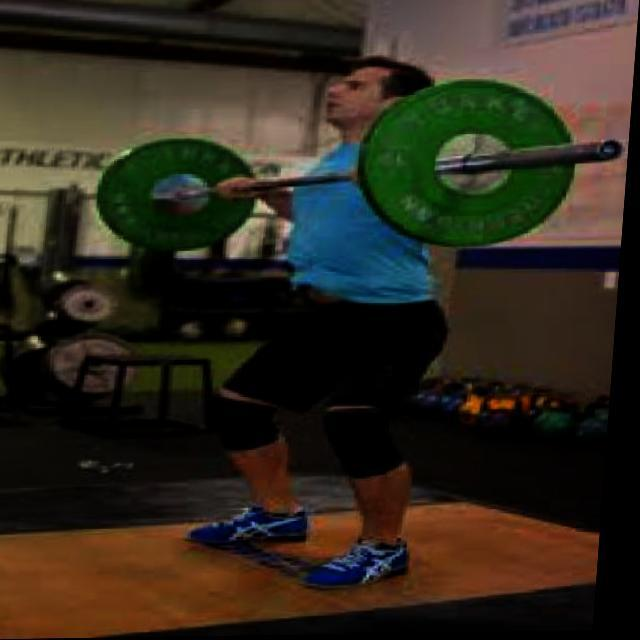barbell: (343, 64, 608, 261)
